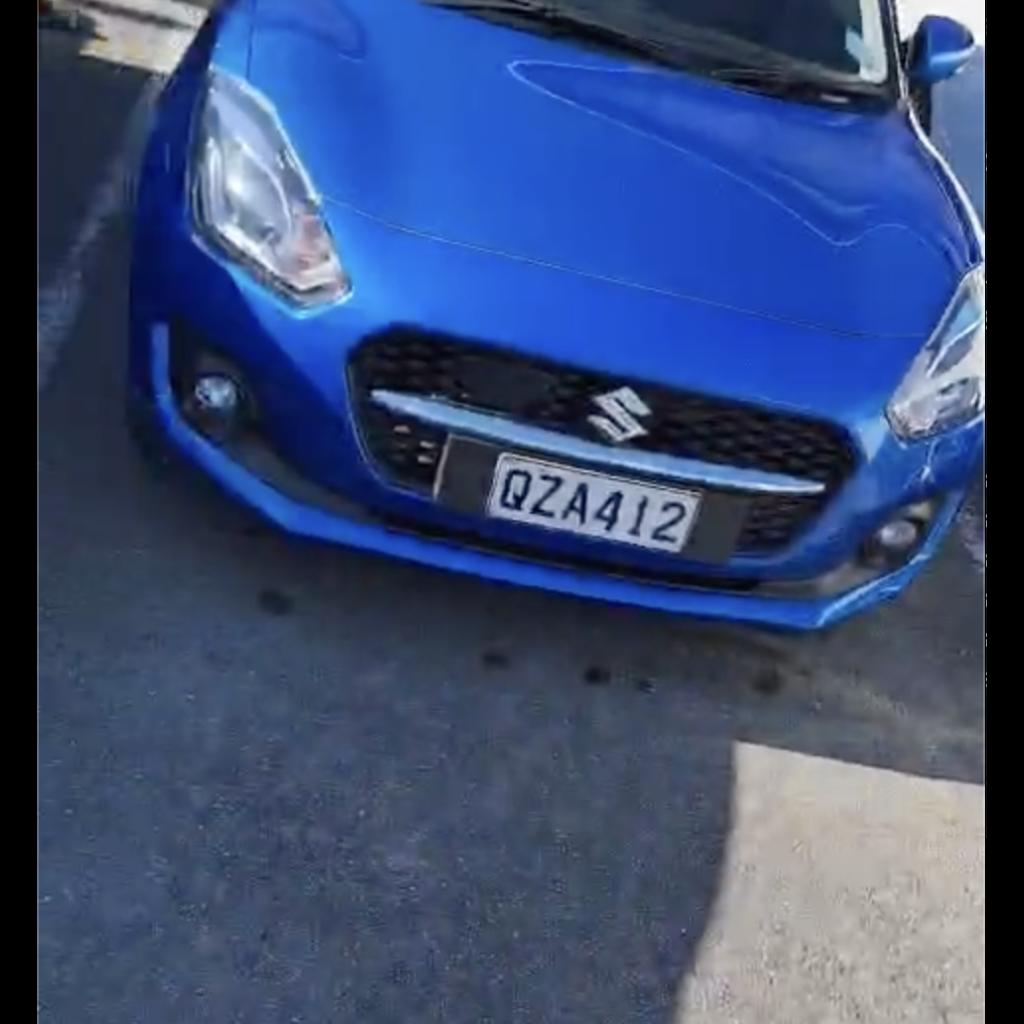Number-Plates: (472, 442, 722, 569)
